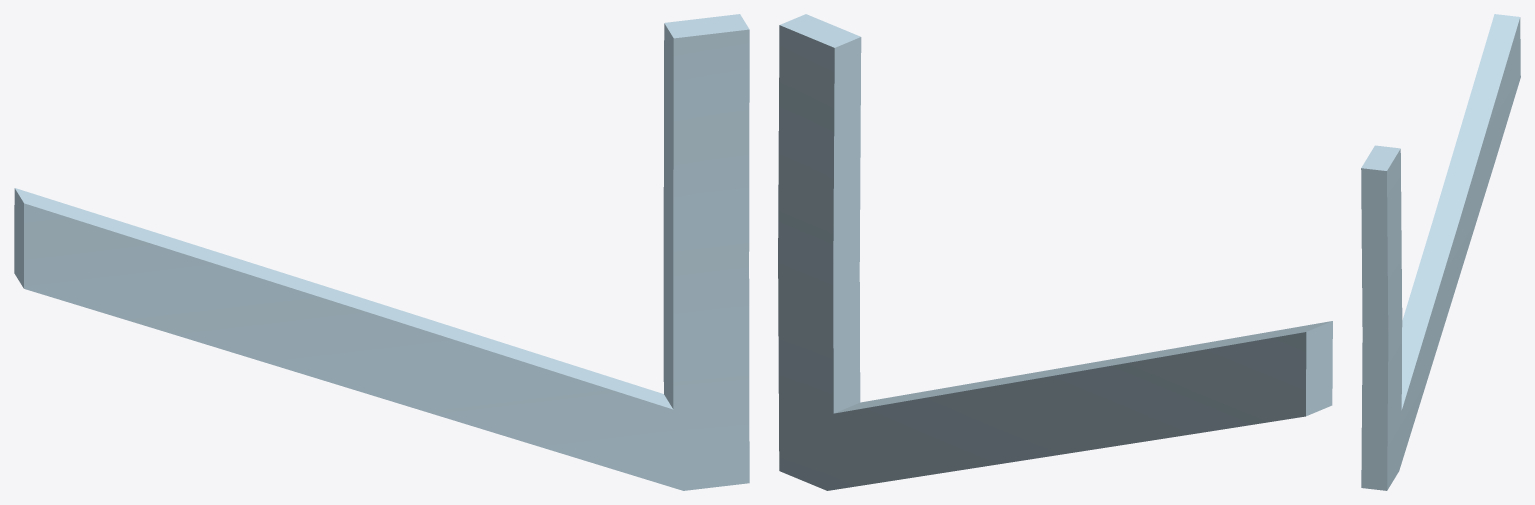
Rendered from Number_7.gltf.
3 views of the same model, side by side, from view 1: azimuth 30°, elevation 25°; view 2: azimuth 150°, elevation 25°; view 3: azimuth 270°, elevation 25° (orthographic). The views are drawn at different scales.
Parts seen in each view (by area): view 1: Sub_1_Cell_2_2_Number_7; view 2: Sub_1_Cell_2_2_Number_7; view 3: Sub_1_Cell_2_2_Number_7.
Boxes of the visible parts, <box> form: Sub_1_Cell_2_2_Number_7: <box>14,14,749,490</box>; Sub_1_Cell_2_2_Number_7: <box>778,14,1332,490</box>; Sub_1_Cell_2_2_Number_7: <box>1361,14,1520,490</box>.
Bounding box in the file's own units: 0.0247 × 0.0168 × 0.00758.
